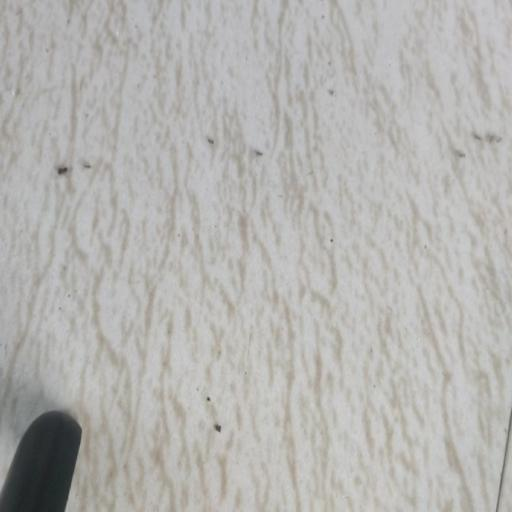Ant-Traffic: (242, 120, 276, 200), (194, 118, 224, 175), (46, 152, 77, 202), (78, 150, 104, 198), (451, 136, 469, 184), (471, 116, 484, 162), (487, 121, 497, 170)
